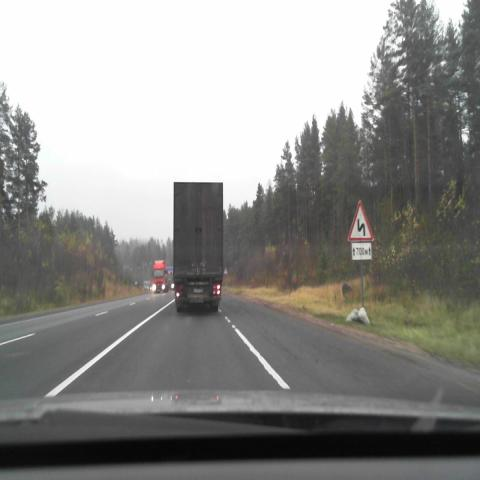1_12_2: (348, 199, 374, 242)
